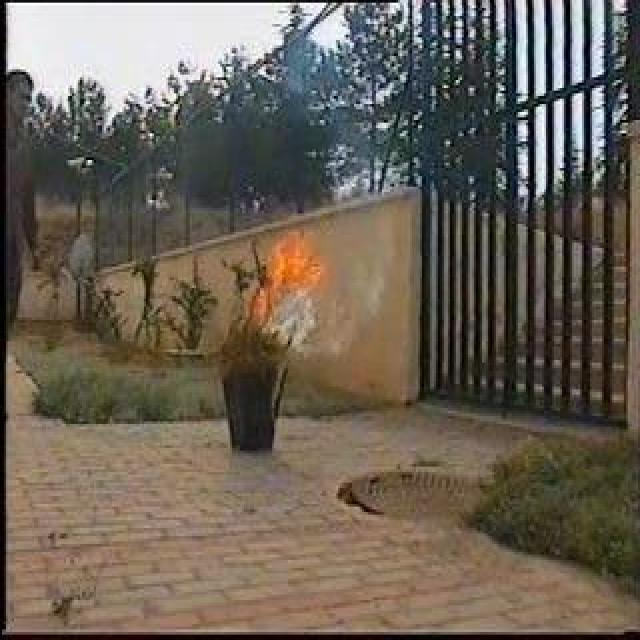fire: (269, 228, 323, 284)
smoke: (271, 296, 353, 357)
